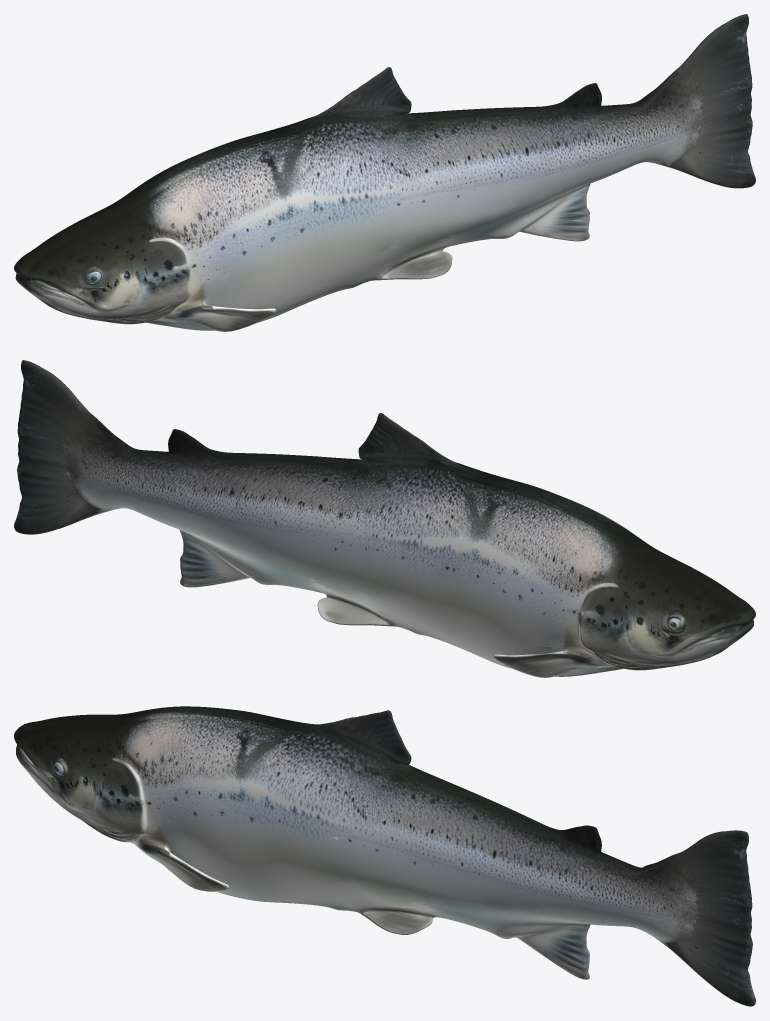
Rendered from seetrout.glb.
3 renders of one model, top to bottom at view 1: azimuth 30°, elevation 25°; view 2: azimuth 150°, elevation 25°; view 3: azimuth 330°, elevation 25°, orthographic.
Visible parts, largest first — view 1: node_0; view 2: node_0; view 3: node_0.
Boxes of the visible parts, x1=… form: node_0: x1=14, y1=14, x2=755, y2=331; node_0: x1=14, y1=360, x2=755, y2=677; node_0: x1=14, y1=706, x2=755, y2=1006.
Size of the model in its own units: 1.17 by 0.3335 by 0.1386.
1 material, 1 textured.
